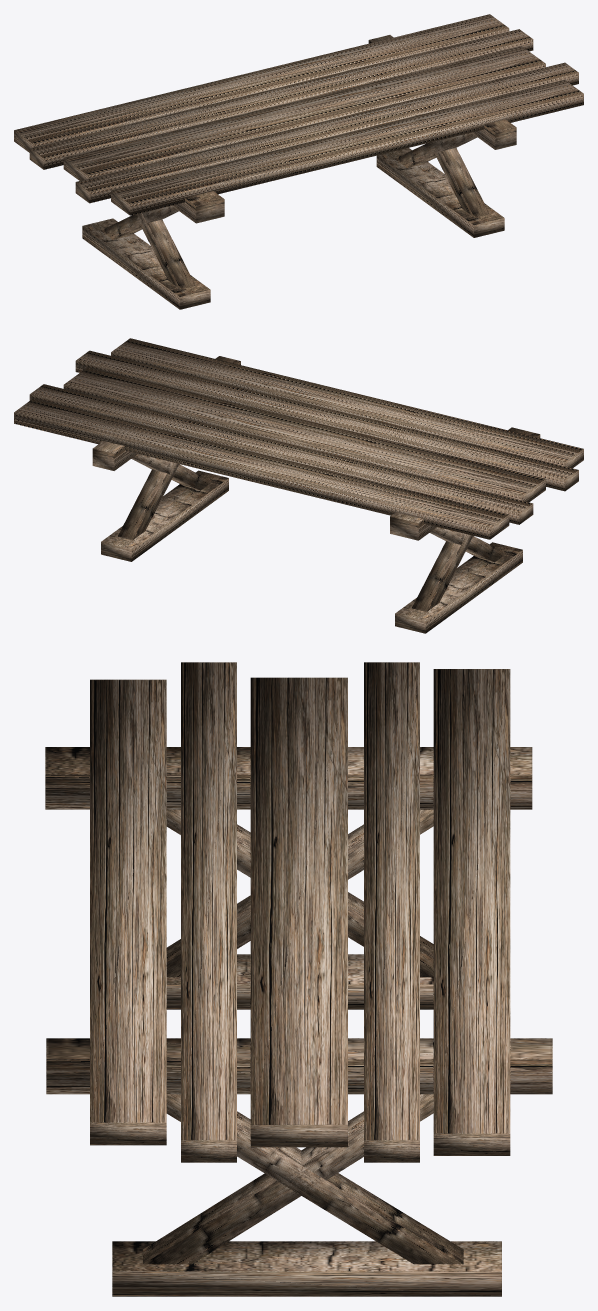
The model's file is tisch1.obj.
3 views of the same model, one above another, from view 1: azimuth 30°, elevation 25°; view 2: azimuth 150°, elevation 25°; view 3: azimuth 270°, elevation 25° (orthographic). The views are drawn at different scales.
Visible parts, largest first — view 1: Box005, Box003, Box001, Box002, Box006, Box014, Box011, Box013, Box010, Box007, Box009, Box012 (+1 smaller); view 2: Box001, Box003, Box005, Box006, Box002, Box011, Box014, Box012, Box009, Box010, Box008, Box007 (+1 smaller); view 3: Box003, Box001, Box005, Box002, Box006, Box011, Box009, Box008, Box010, Box007, Box014, Box012 (+1 smaller).
Boxes of the visible parts, box(x1,y1,x2,y2) form: Box005: box(111, 79, 583, 215); Box003: box(63, 46, 545, 180); Box001: box(14, 14, 509, 152); Box002: box(29, 29, 533, 169); Box006: box(75, 62, 578, 203); Box014: box(82, 218, 210, 309); Box011: box(376, 148, 504, 237); Box013: box(136, 213, 195, 289); Box010: box(435, 148, 489, 217); Box007: box(172, 191, 224, 223); Box009: box(395, 132, 477, 167); Box012: box(100, 205, 178, 239); Box001: box(14, 398, 509, 539); Box003: box(63, 367, 545, 502); Box005: box(111, 338, 583, 468); Box006: box(75, 350, 578, 491); Box002: box(29, 384, 533, 524); Box011: box(101, 470, 228, 561); Box014: box(395, 542, 522, 633); Box012: box(412, 534, 473, 611); Box009: box(118, 463, 179, 540); Box010: box(131, 454, 212, 490); Box008: box(92, 356, 240, 470); Box007: box(390, 427, 540, 540); Box003: box(250, 677, 347, 1147); Box001: box(433, 669, 510, 1155); Box005: box(90, 679, 166, 1145); Box002: box(364, 662, 419, 1162); Box006: box(181, 662, 236, 1162); Box011: box(112, 1241, 501, 1296); Box009: box(166, 1094, 463, 1264); Box008: box(46, 1038, 552, 1094); Box010: box(143, 1094, 433, 1264); Box007: box(45, 747, 532, 809); Box014: box(166, 954, 433, 1009); Box012: box(166, 809, 433, 977).
Bounding box in the file's own units: 43.07 × 10.45 × 19.32.
